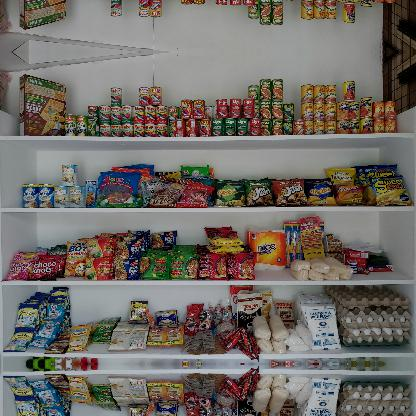Koko-Krunch: (19, 73, 66, 135), (19, 0, 67, 32)
